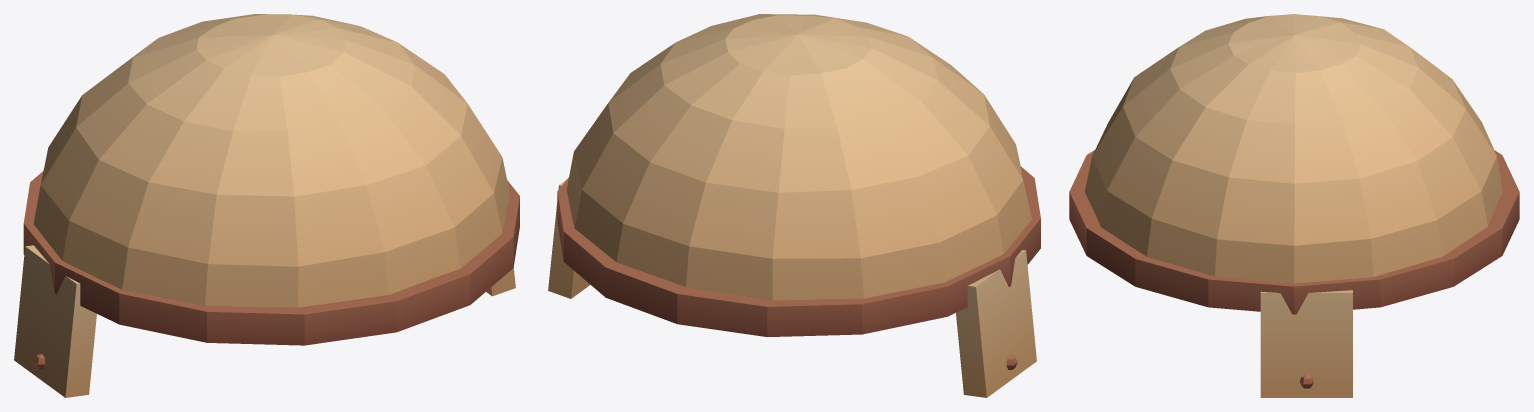
Rendered from leather_cap.glb.
3 views of the same model, side by side, from view 1: azimuth 30°, elevation 25°; view 2: azimuth 150°, elevation 25°; view 3: azimuth 270°, elevation 25° (orthographic). The views are drawn at different scales.
Visible parts, largest first — view 1: leather_cap; view 2: leather_cap; view 3: leather_cap.
Part boxes in pixels (x1=…): leather_cap: x1=14, y1=14, x2=519, y2=397; leather_cap: x1=548, y1=14, x2=1040, y2=397; leather_cap: x1=1069, y1=14, x2=1519, y2=397.
Size of the model in its own units: 1.54 by 0.9549 by 1.46.
Materials: 1 (1 with a texture image).
